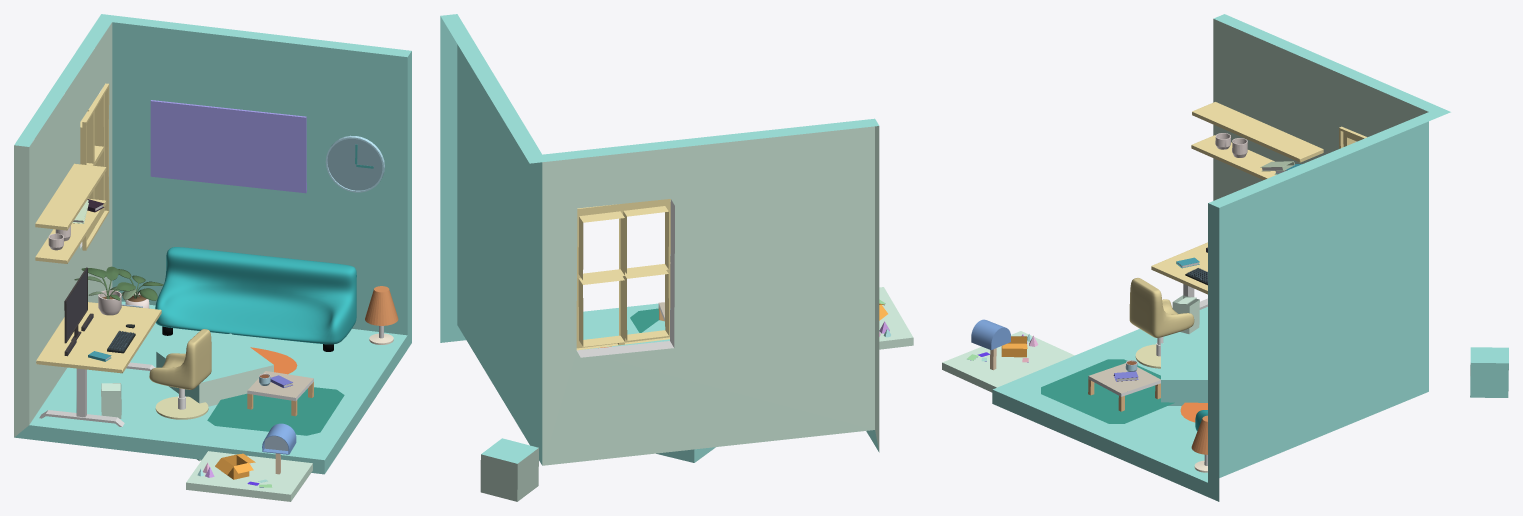
Rendered from finalroomV9.glb.
3 views of the same model, side by side, from view 1: azimuth 30°, elevation 25°; view 2: azimuth 150°, elevation 25°; view 3: azimuth 270°, elevation 25° (orthographic). The views are drawn at different scales.
Visible parts, largest first — view 1: body, sofa, selves, flooritems, Desks, Cube, minifloor, clock, chair, tabletops, Computer, mailbox (+1 smaller); view 2: body, Cube.001, minifloor, Cube; view 3: body, flooritems, selves, minifloor, Cube, sofa, chair, Cube.001, Desks, mailbox, letters.
Boxes of the visible parts, x1,y1,x2,y2 form: body: (14,14,411,474); sofa: (110,247,398,416); selves: (35,100,306,263); flooritems: (101,347,344,435); Desks: (36,302,161,426); Cube: (156,333,273,461); minifloor: (186,451,312,501); clock: (325,135,384,192); chair: (149,329,211,389); tabletops: (64,266,135,361); Computer: (64,267,87,343); mailbox: (262,423,296,474); body: (440,14,879,465); Cube.001: (480,438,538,501); minifloor: (879,287,913,349); Cube: (624,320,715,462); body: (992,14,1450,501); flooritems: (1041,295,1207,423); selves: (1191,102,1323,179); minifloor: (942,331,1074,392); Cube: (1161,343,1207,405); sofa: (1088,360,1207,472); chair: (1129,278,1194,337); Cube.001: (1470,347,1508,397); Desks: (1151,242,1207,309); mailbox: (971,319,1010,370); letters: (966,336,1028,362).
Bounding box in the file's own units: 10.59 × 8.46 × 13.08.
